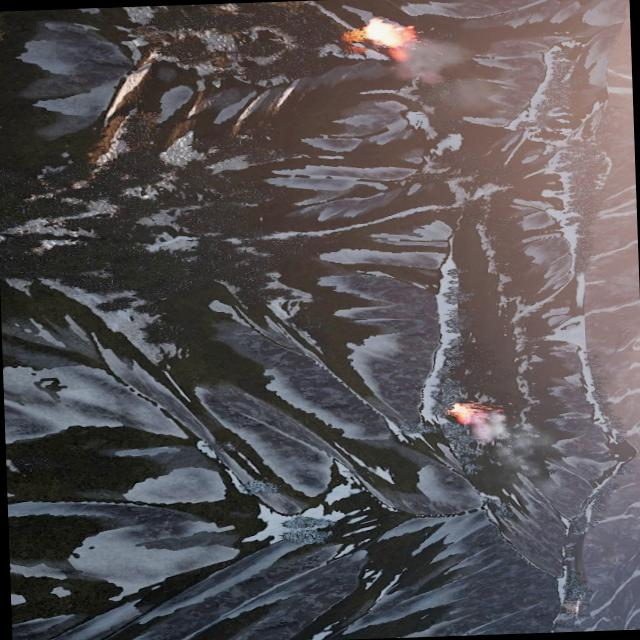fire: (358, 15, 409, 50), (449, 403, 476, 423)
smoke: (470, 408, 550, 471), (392, 36, 474, 84)
